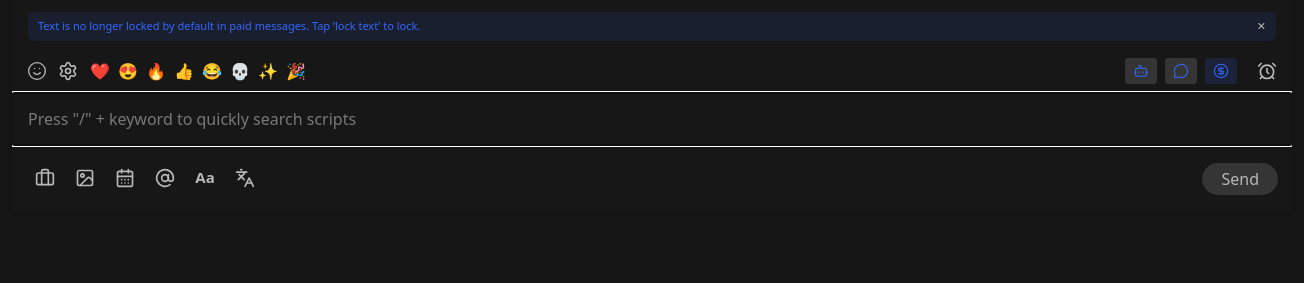
Scenario: Composer toolbar: "Scripts" › "Scripts": step 1 of a two-step Script loads text, price and media, and after Send step 2 is suggested
Click the button named "Scripts": (1181, 70) [1165,58,1197,84]
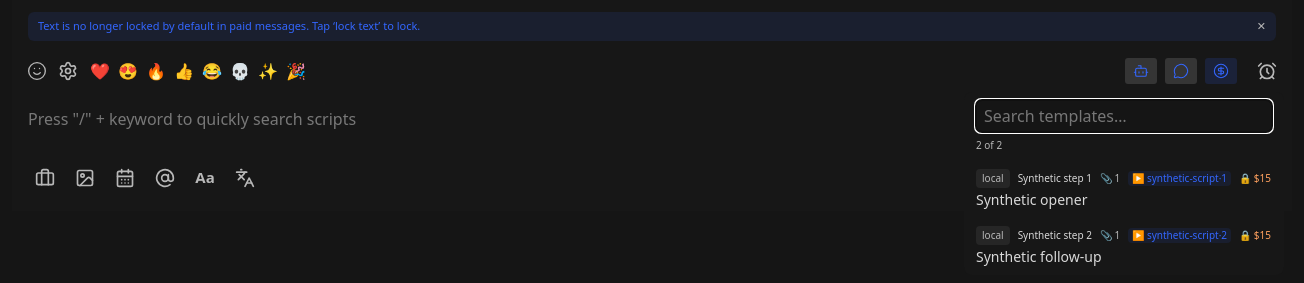
Click the button "Synthetic opener": (993, 178) [964,160,1284,218]
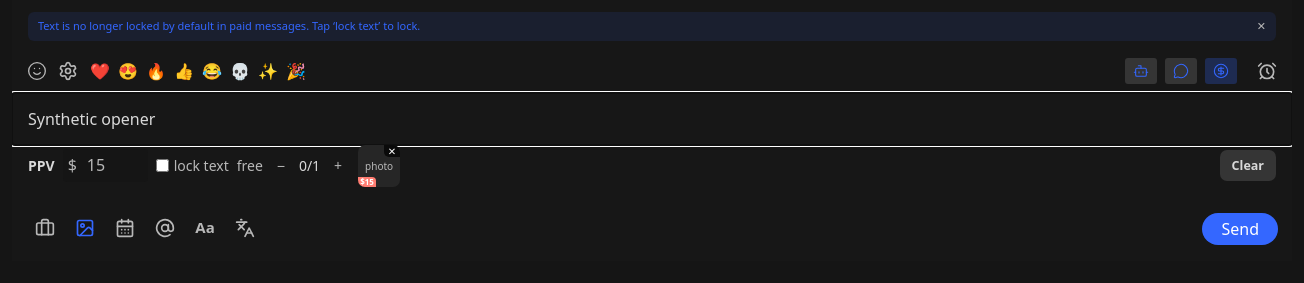
Expected: the text box with placeholder "Press \"/\" + keyword to quickly search scripts" holds "Synthetic opener", [12,92,1292,144]
Expected: the field named "PPV price" holds "15", [87,154,140,177]
Click the button "Send": (1240, 228) [1202,212,1278,244]
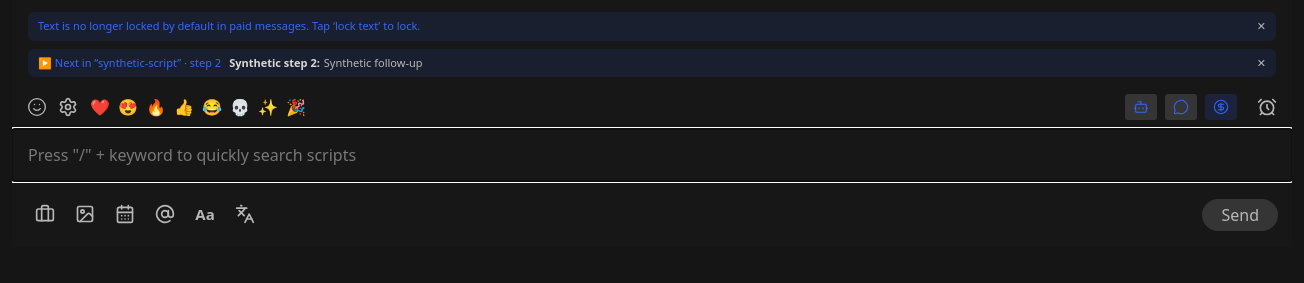
Expected: the text "▶ Next in “synthetic-script” · step 2" is shown, [38,54,221,71]
